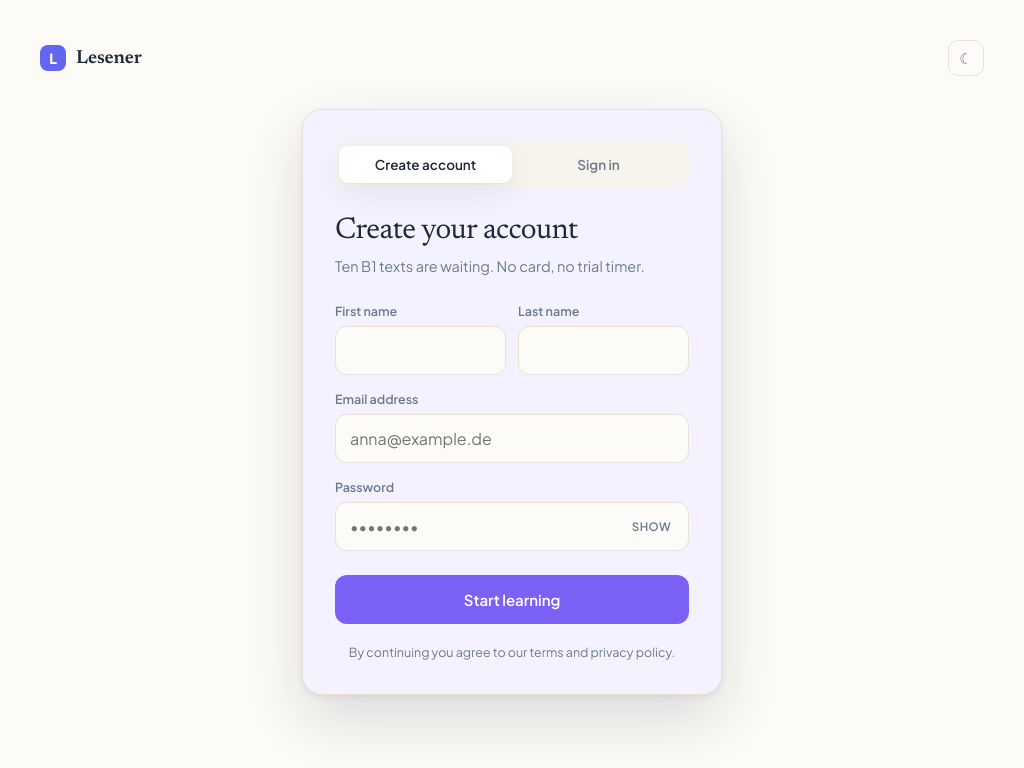
Test: what sign-up sends › records no name when the address is already taken
Type "Shojib" into the field labelled "First name".
click(420, 350); type("Shojib")  # box [335,326,506,375]
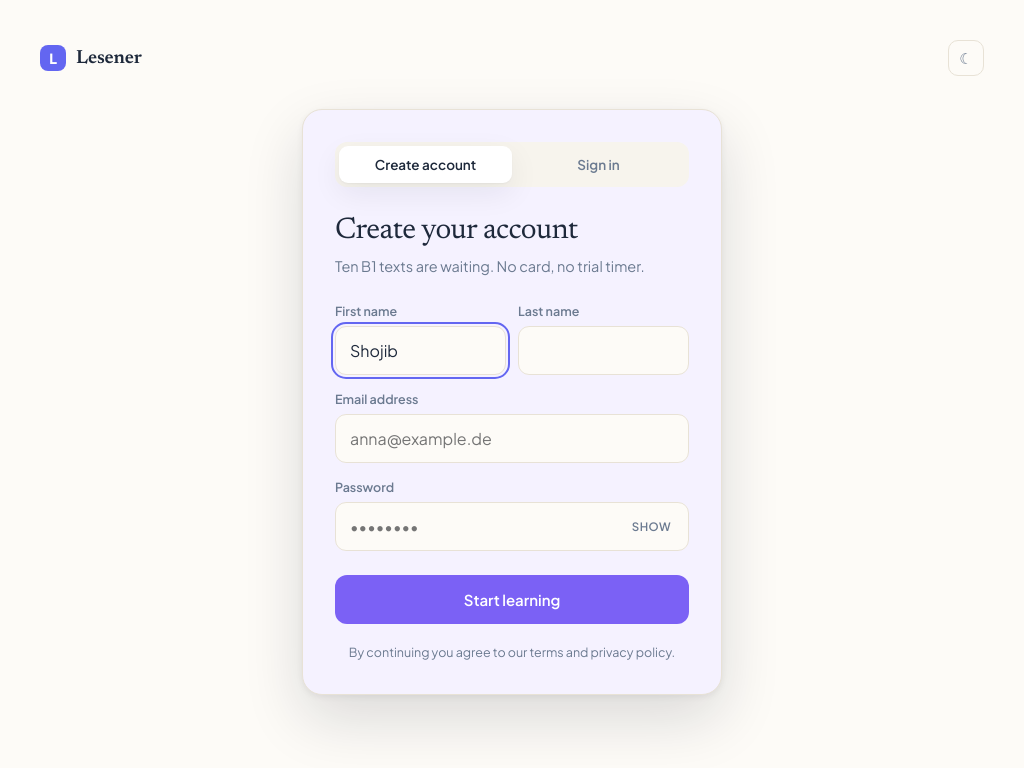
Type "Mahmud" into the field labelled "Last name".
click(604, 350); type("Mahmud")  # box [518,326,689,375]
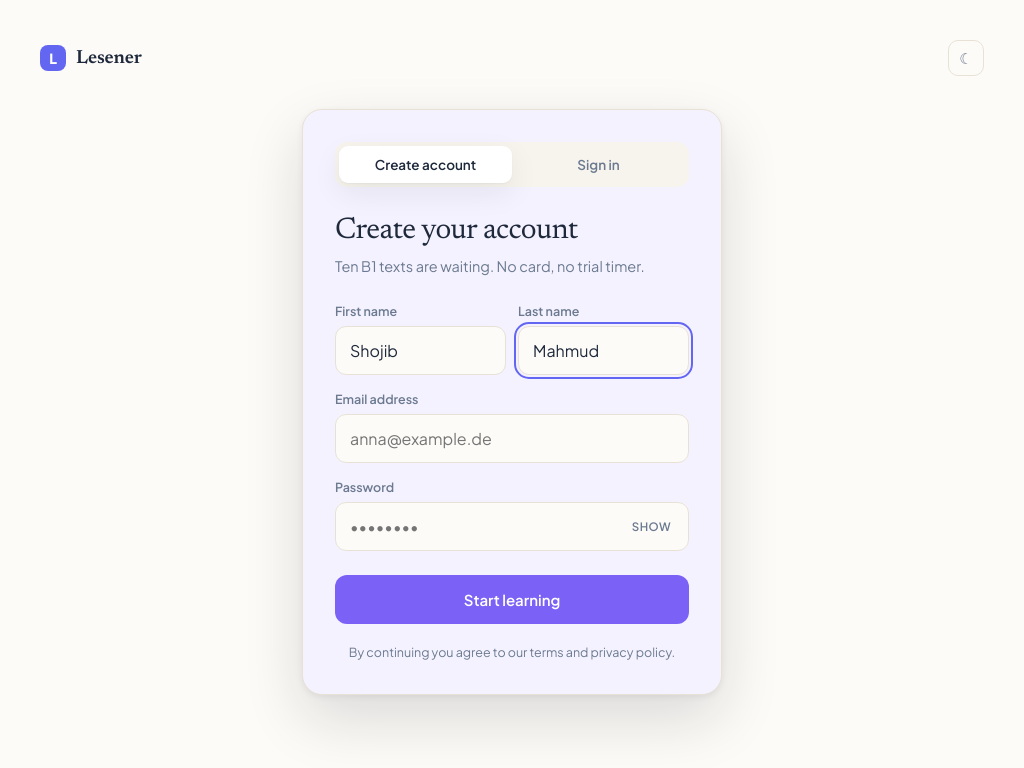
Type "taken@example.de" into the field labelled "Email address".
click(512, 438); type("taken@example.de")  # box [335,414,689,463]
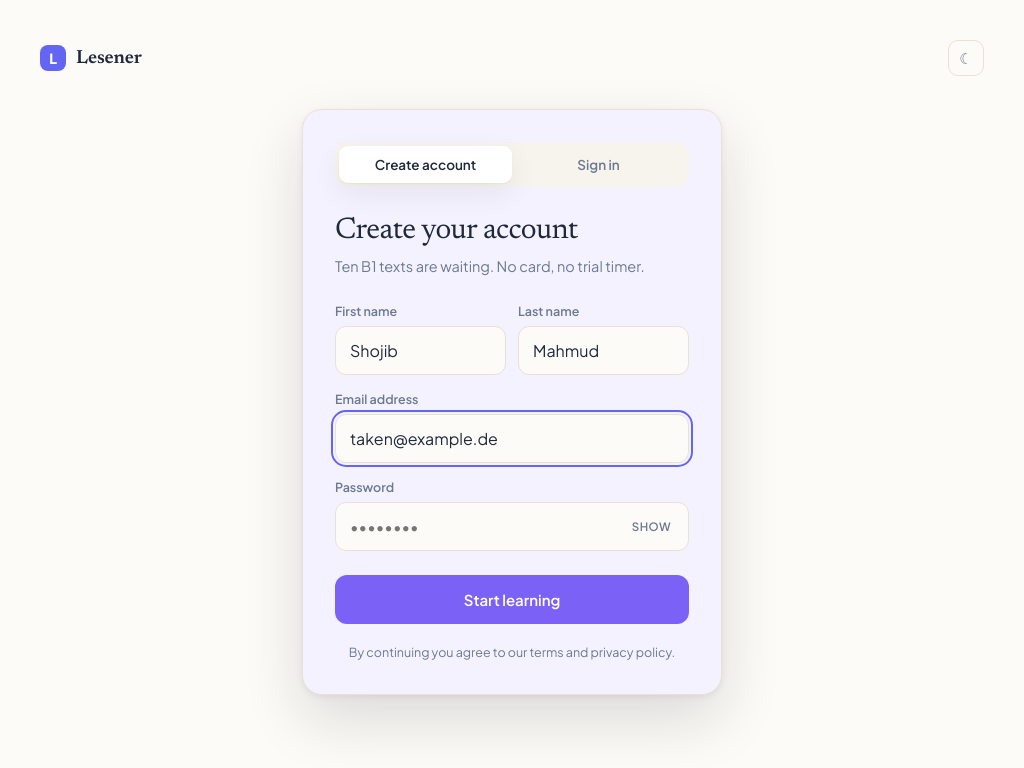
Type "sixchars" into the password field labelled "Password".
click(512, 526); type("sixchars")  # box [335,502,689,551]
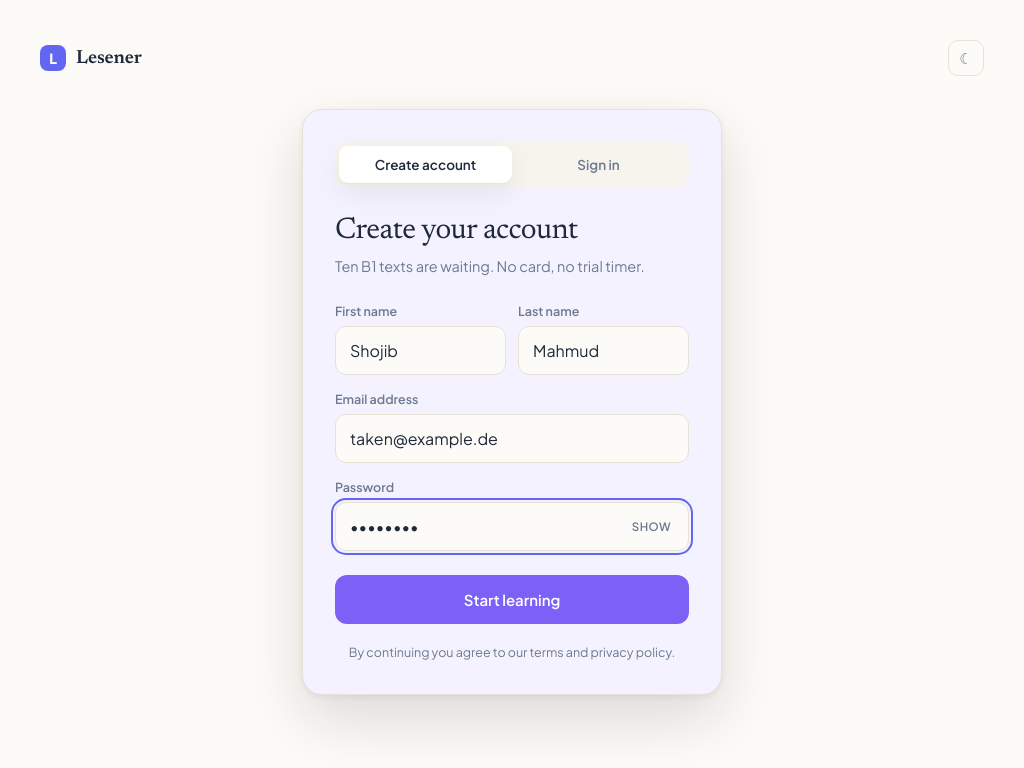
Click the button "Start learning".
click(512, 599)  # box [335,575,689,624]
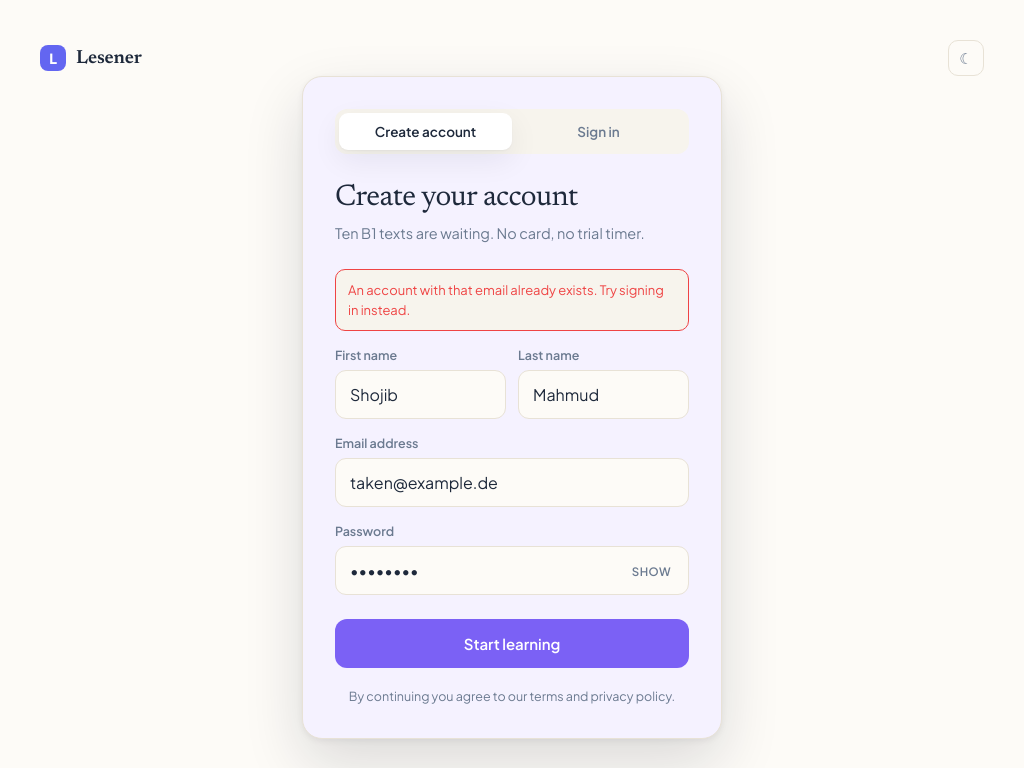
Expected: the message "An account with that email already exists. Try signing in instead." is shown, [335,269,689,332]
